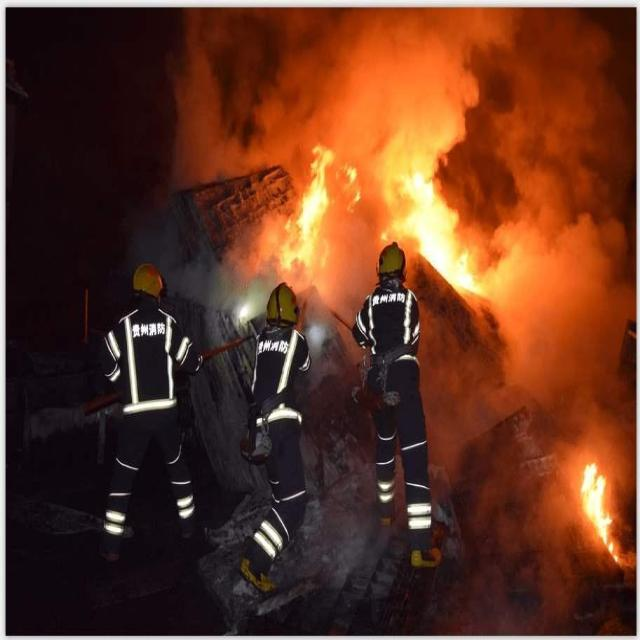fire: (390, 119, 490, 294), (266, 134, 346, 288), (574, 453, 634, 574)
smoke: (501, 42, 614, 402), (177, 12, 438, 106)
